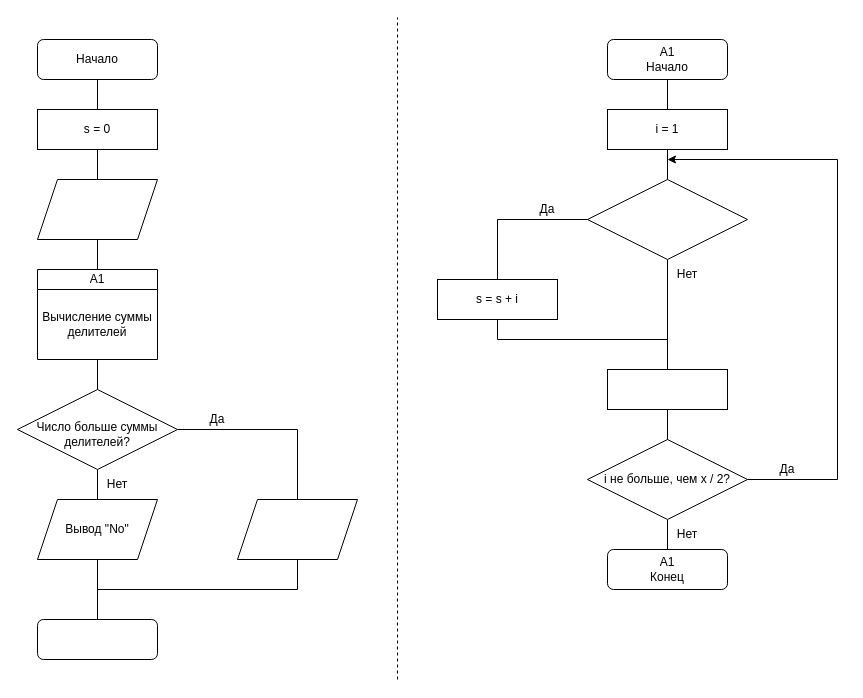
Some shapes in this 863 by 698 pixel diagram are drawn without their labels. The shapes that lost their labels are listed below. From the top down, each one's box as (x1, y1, x2, y2) in pixels, then its label:
(36, 178, 158, 240): Ввод числа x
(586, 178, 748, 260): x делится на i?
(606, 368, 728, 410): i = i + 1
(236, 498, 358, 560): Вывод "Yes"
(36, 618, 158, 660): Конец
